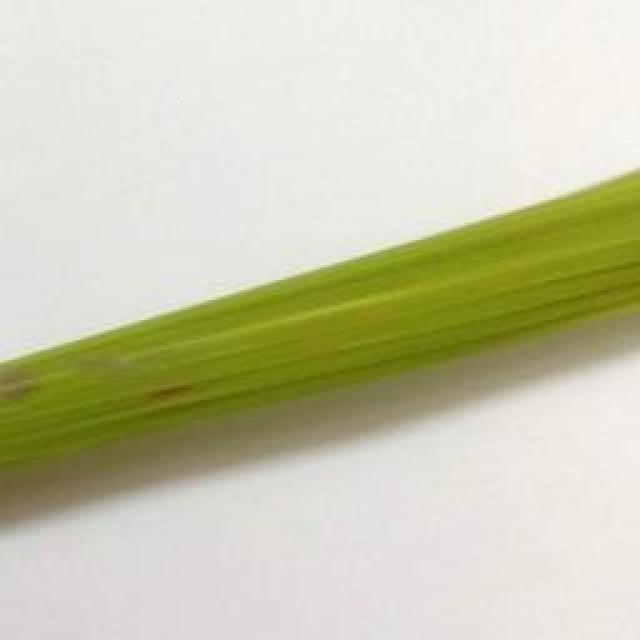Brown_Spot: (138, 366, 212, 407), (0, 362, 70, 402)
